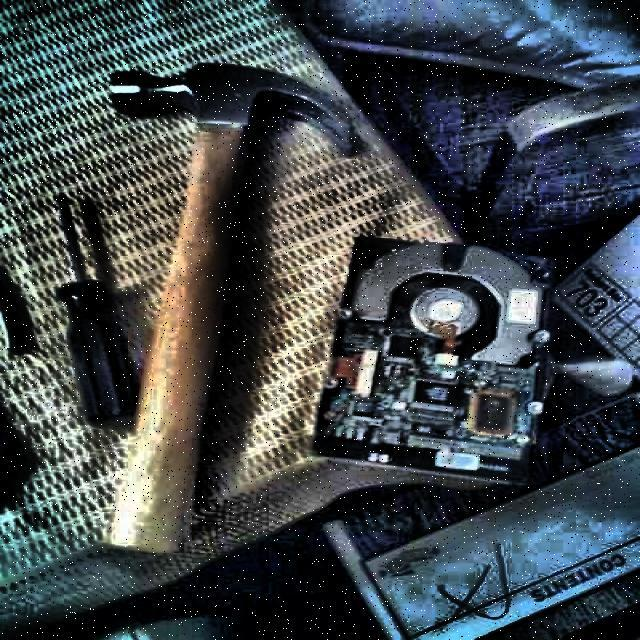hammer: (98, 60, 357, 564)
